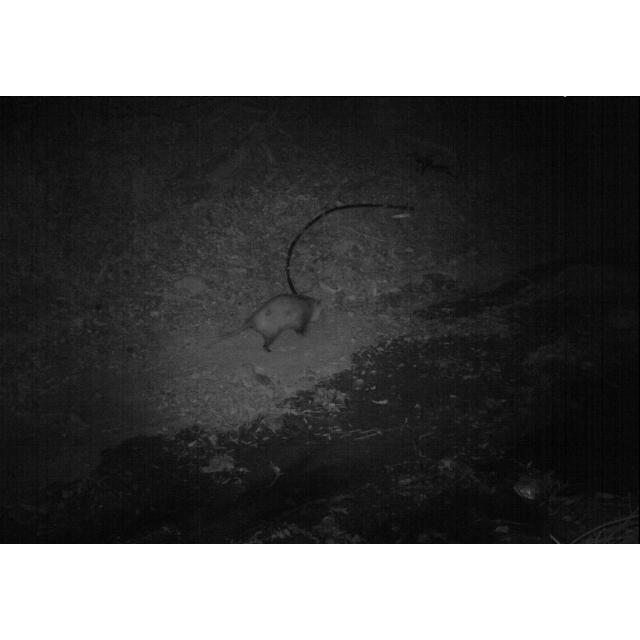animals: (214, 295, 322, 353)
